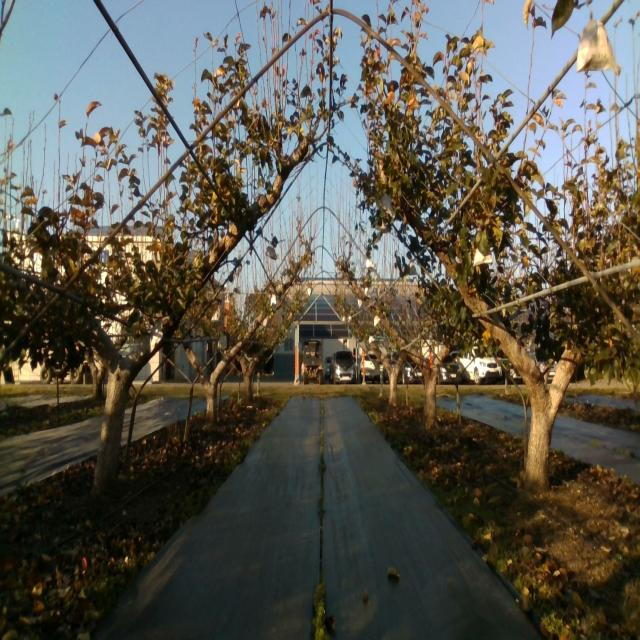pearbags: (576, 12, 616, 74), (472, 245, 494, 268), (148, 323, 164, 354), (380, 192, 395, 216)
